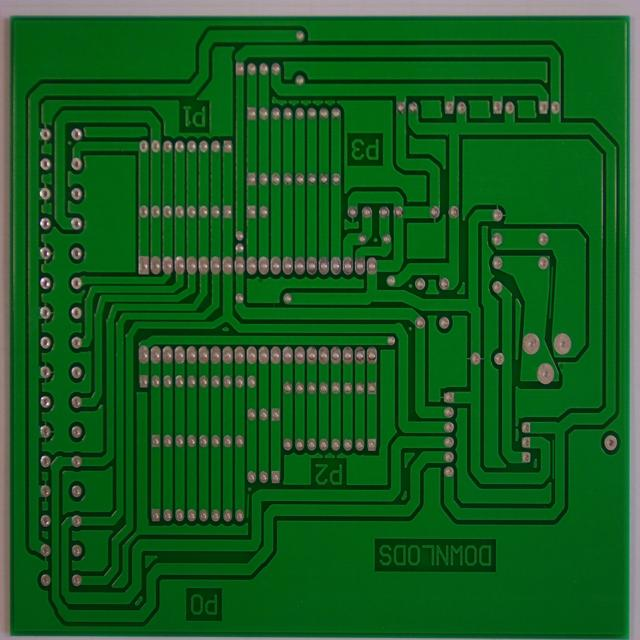spurious_copper: (546, 264, 558, 320), (549, 437, 556, 480), (244, 492, 252, 519)
